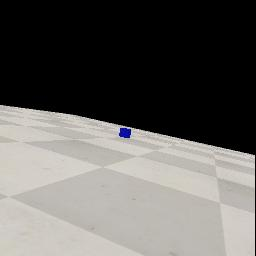box: (119, 128, 131, 138)
